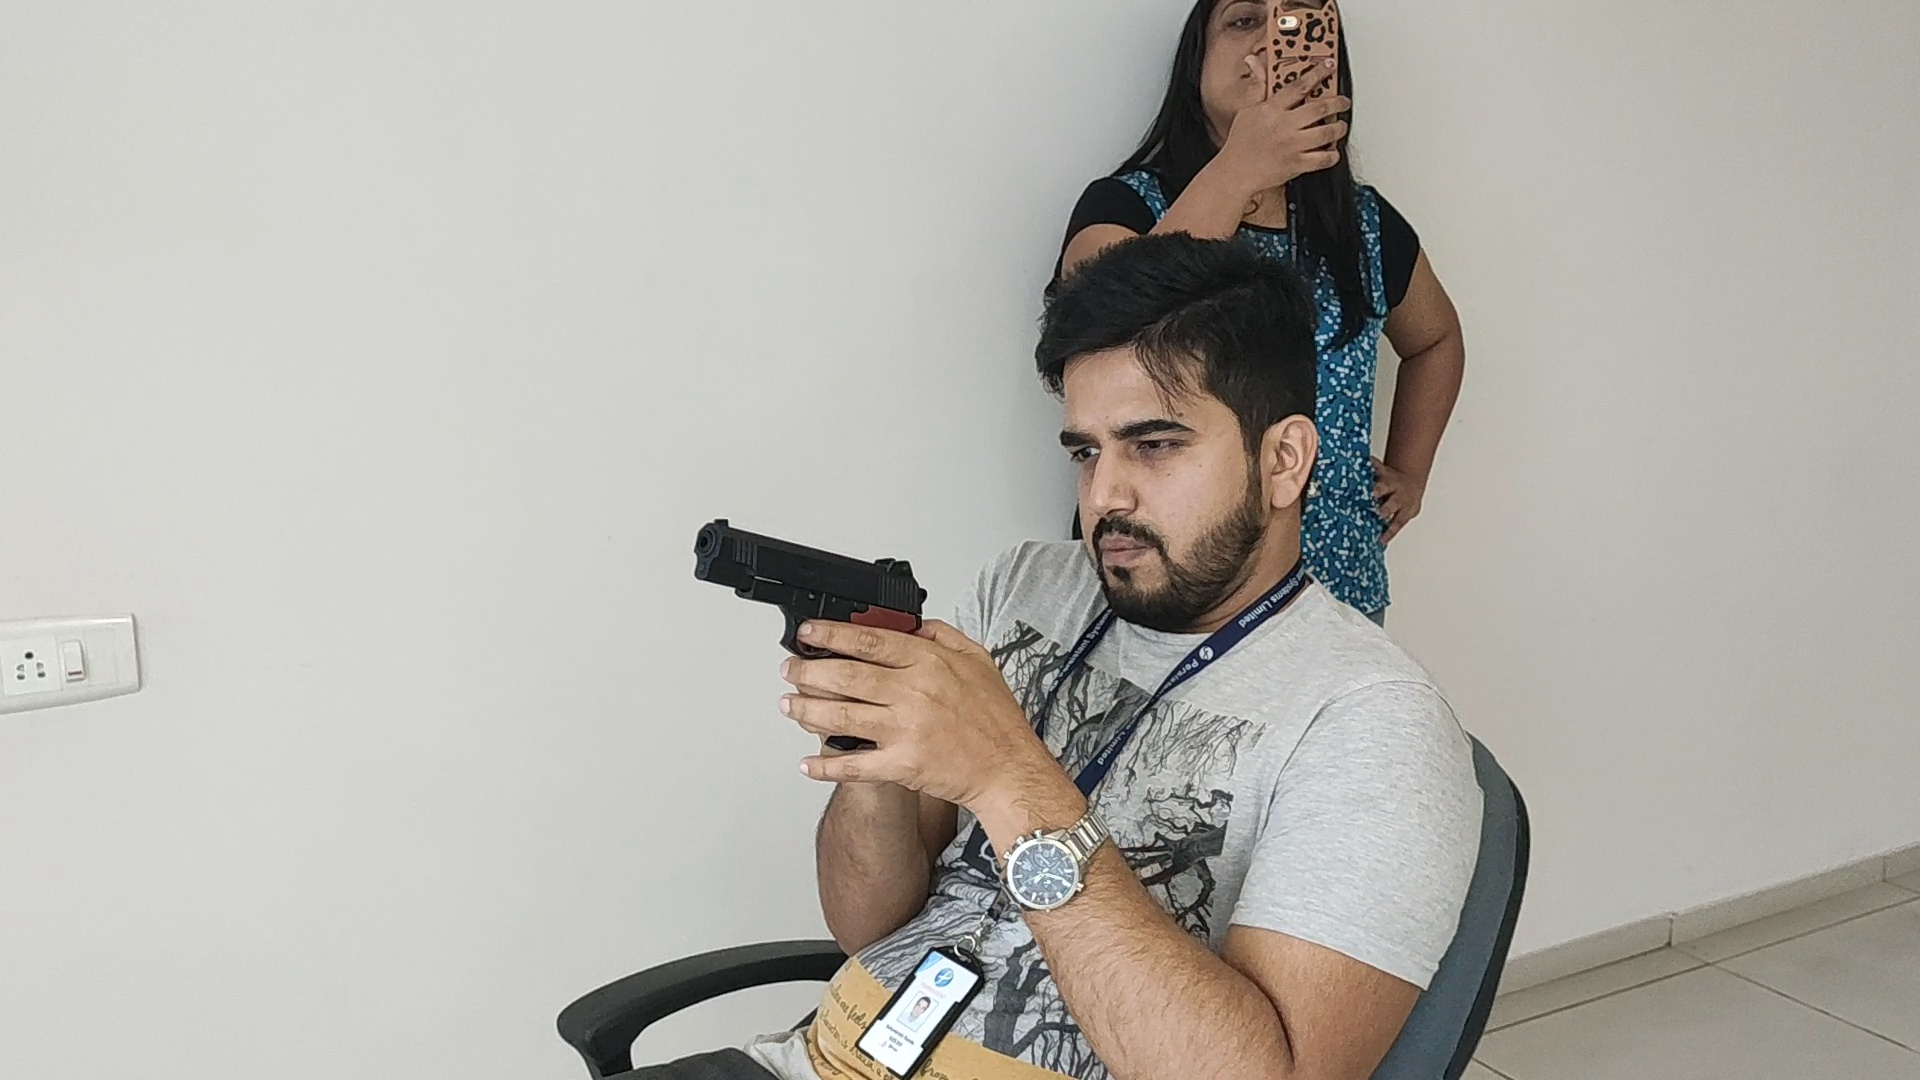gun: (694, 517, 927, 618)
